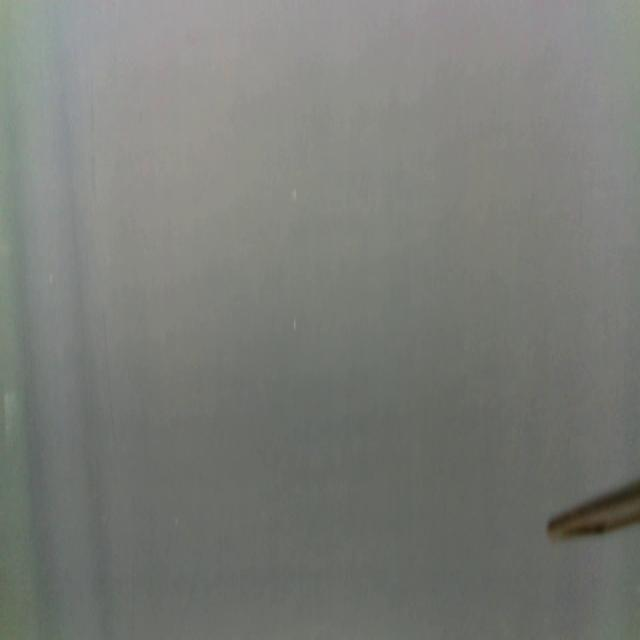hole: (291, 188, 299, 201), (293, 318, 298, 333)
